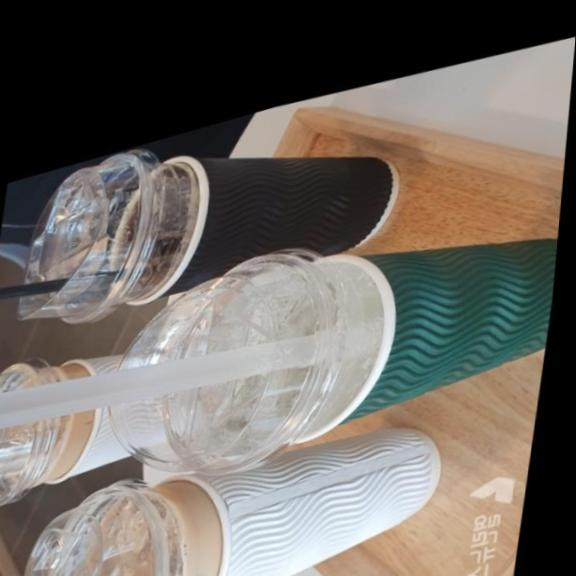Plastik: (94, 238, 545, 488)
